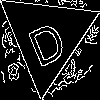D: (22, 12, 69, 68)
